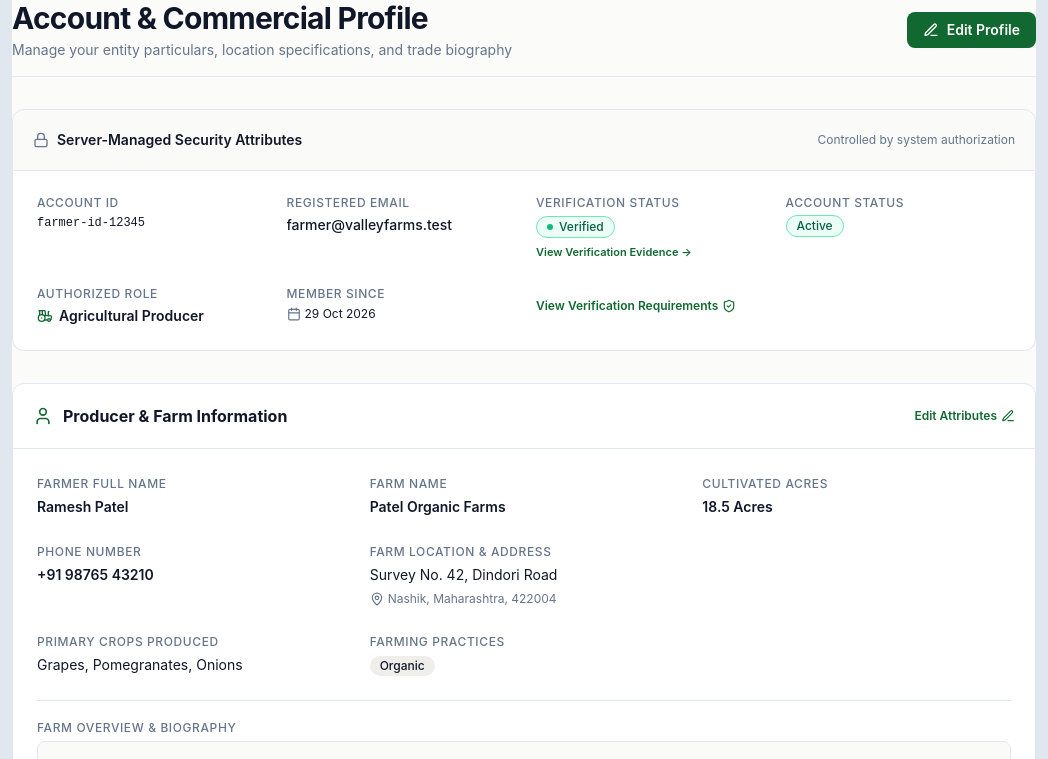
Test: ProfilePage › renders farmer view mode with current attributes and switches to edit mode
Expected: the text "Ramesh Patel" is shown, x1=37 y1=498 x2=128 y2=515
Expected: the text "Patel Organic Farms" is shown, x1=370 y1=498 x2=506 y2=515
Click Edit Profile
Click the button "Edit Profile" at (971,30), box x1=907 y1=12 x2=1036 y2=48
(page scrolled)
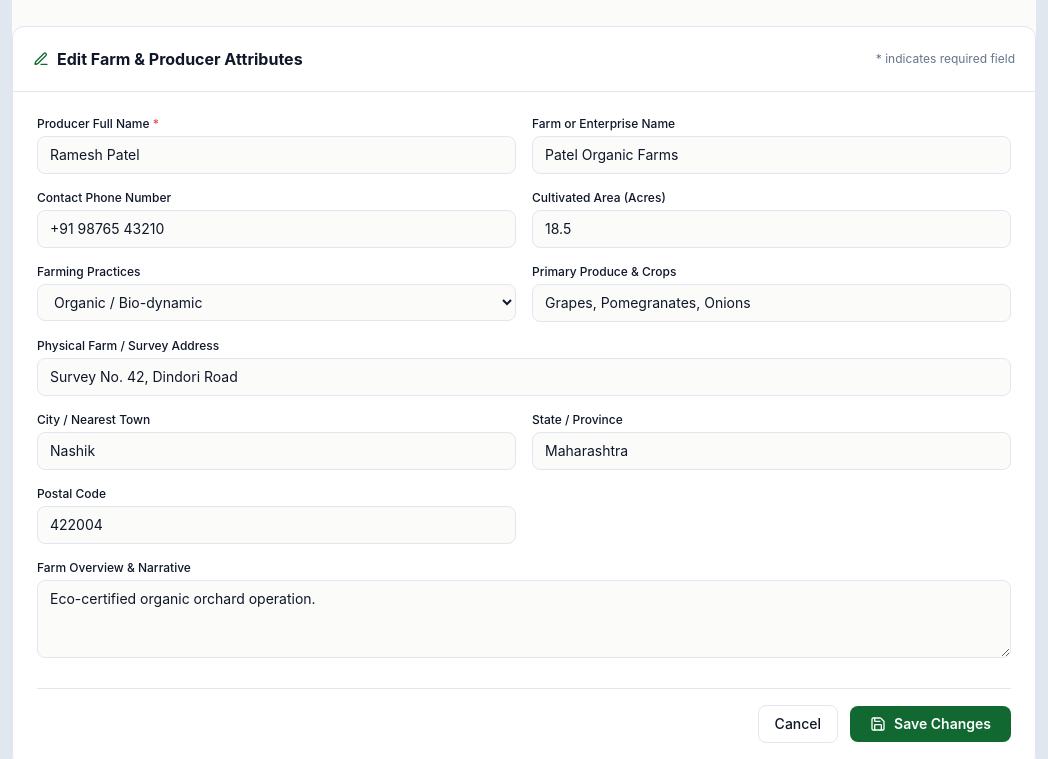
Now the field labelled "Producer Full Name *" is shown, box x1=37 y1=136 x2=516 y2=174
Now the field labelled "Farm or Enterprise Name" is shown, box x1=532 y1=136 x2=1011 y2=174
Now the number field labelled "Cultivated Area (Acres)" is shown, box x1=532 y1=210 x2=1011 y2=248
